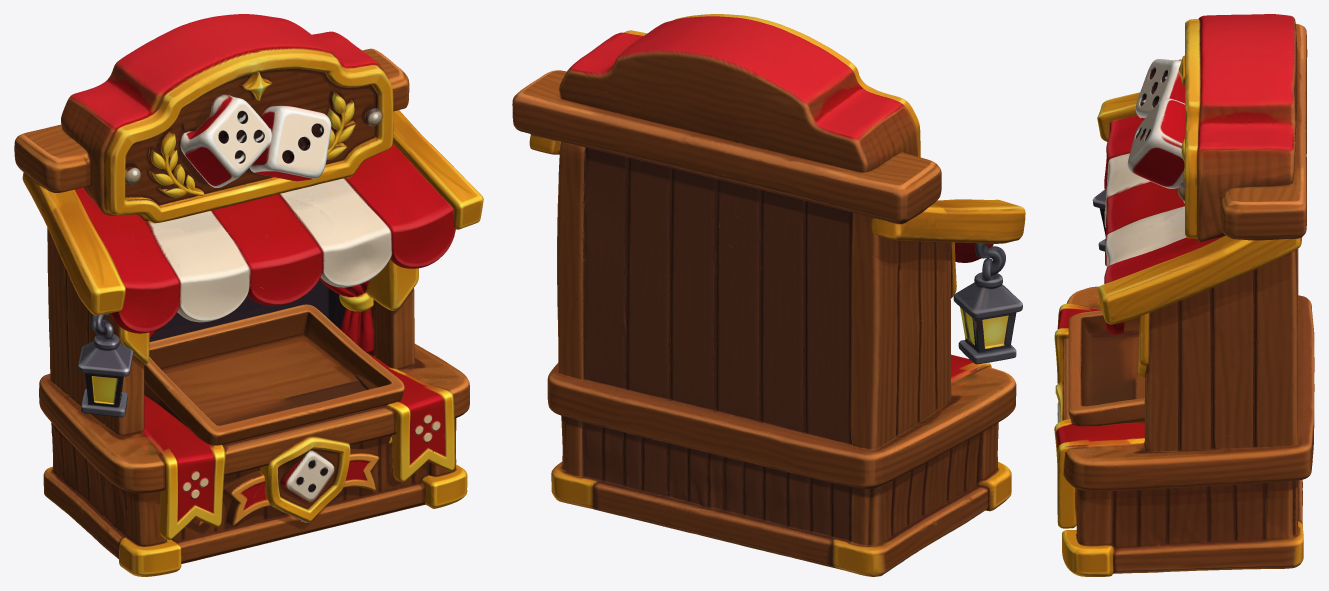
Rendered from shop_dices.glb.
3 renders of one model, left to right at view 1: azimuth 30°, elevation 25°; view 2: azimuth 150°, elevation 25°; view 3: azimuth 270°, elevation 25°, orthographic. The views are drawn at different scales.
Bounding box in the file's own units: 1.78 × 1.9 × 0.9736.
1 material, 1 textured.
